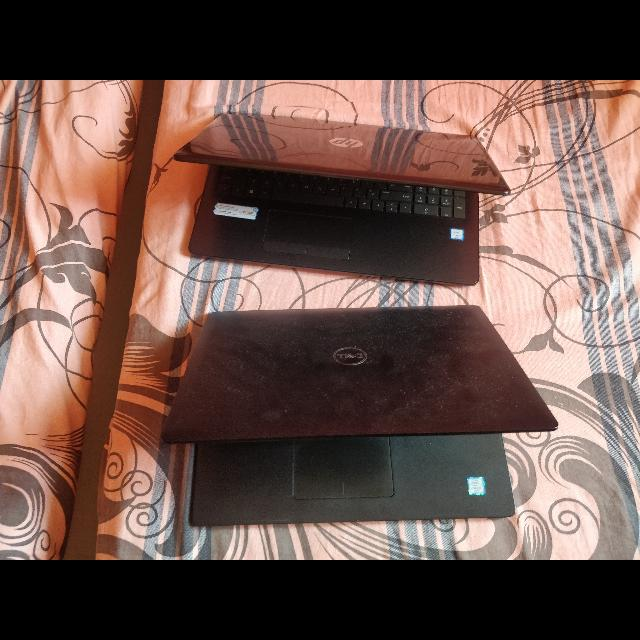Laptop: (152, 300, 562, 532), (169, 103, 516, 293)
